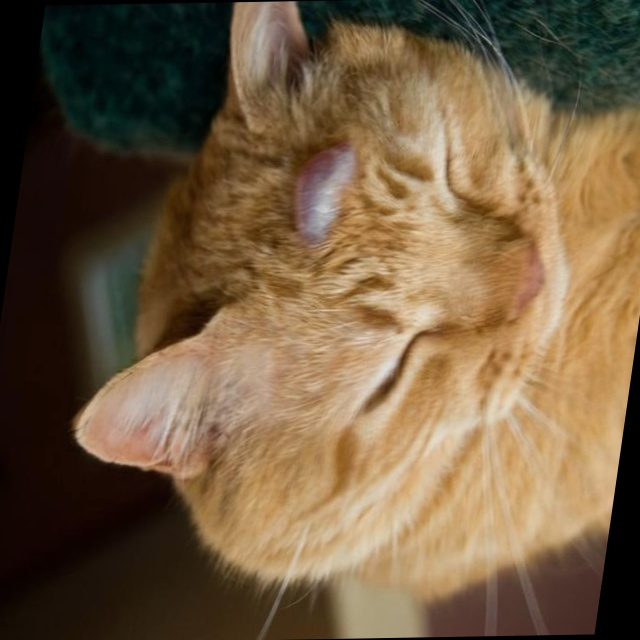lump_and_bump: (289, 137, 355, 243)
